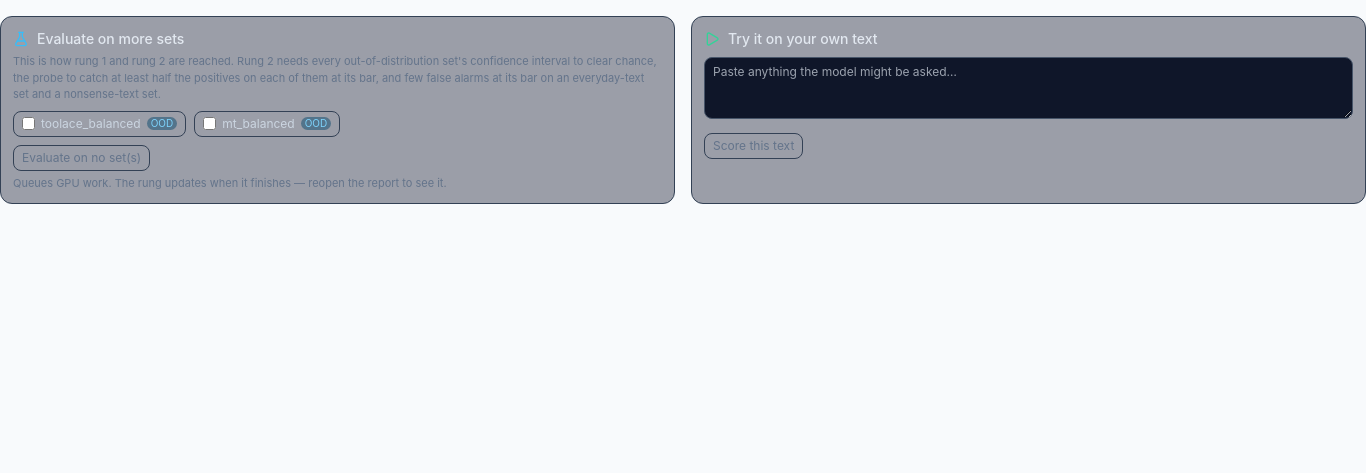
a probe can be pointed at your own text, and the result is READ BACK › queues the score and then polls for it — scoring is not write-only
This screenshot has width=1366, height=473.
Type "a high-stakes message" into the text box with test id "score-text" at [1028, 88], box [704,57,1353,119]
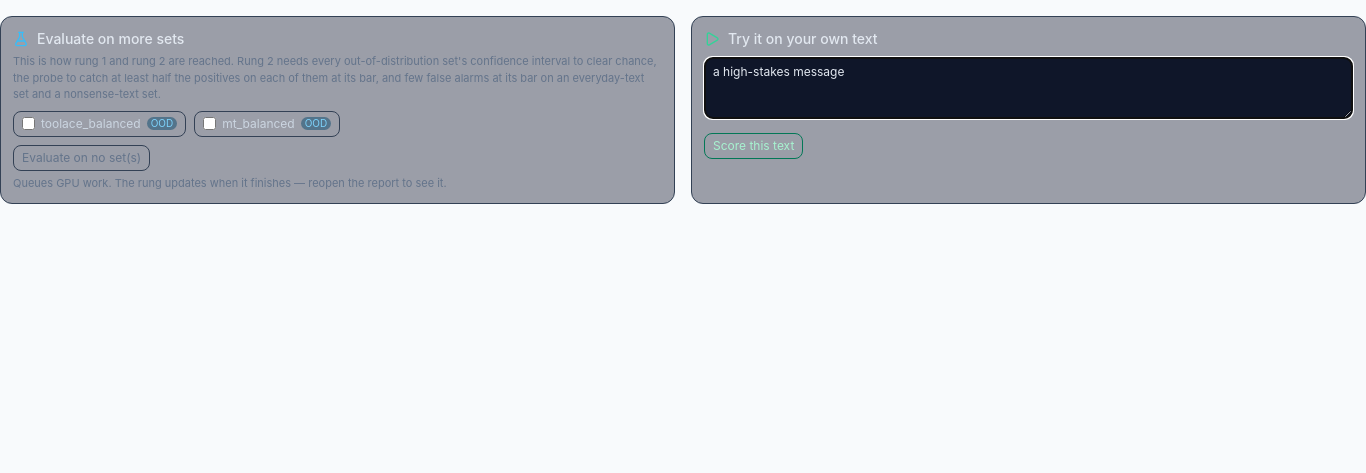
Click the button with test id "score-submit" at [754, 146], box [704,133,803,159]
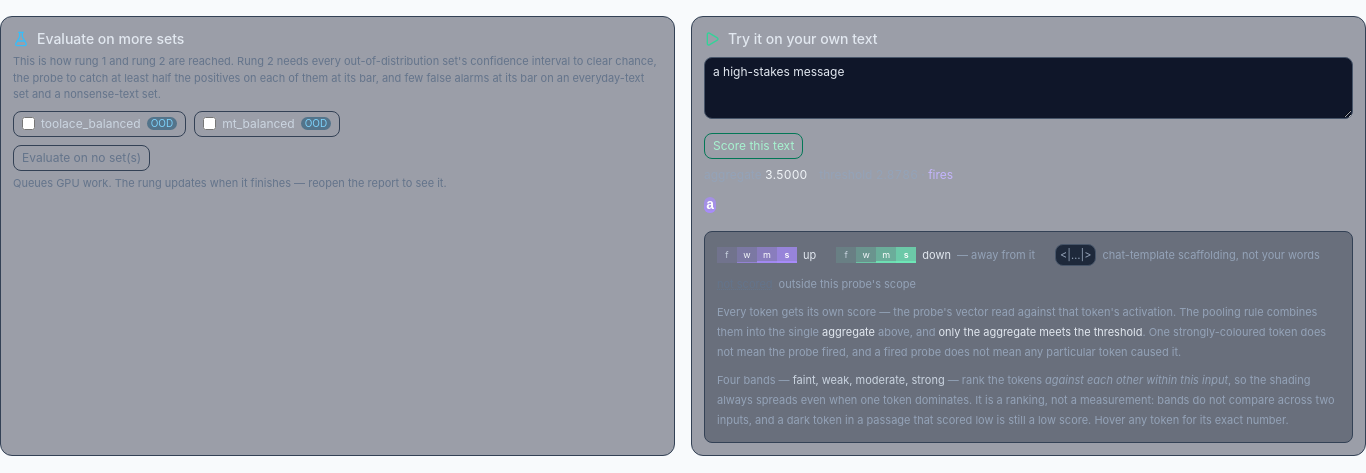
expect the element with test id "score-result" is shown: met, box [704,167,1353,443]
expect the element with test id "score-result" shows "3.5000": met, box [765,167,807,182]
